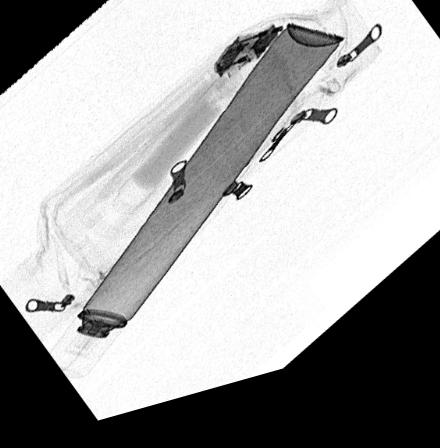Sprayer: (49, 37, 344, 382)
